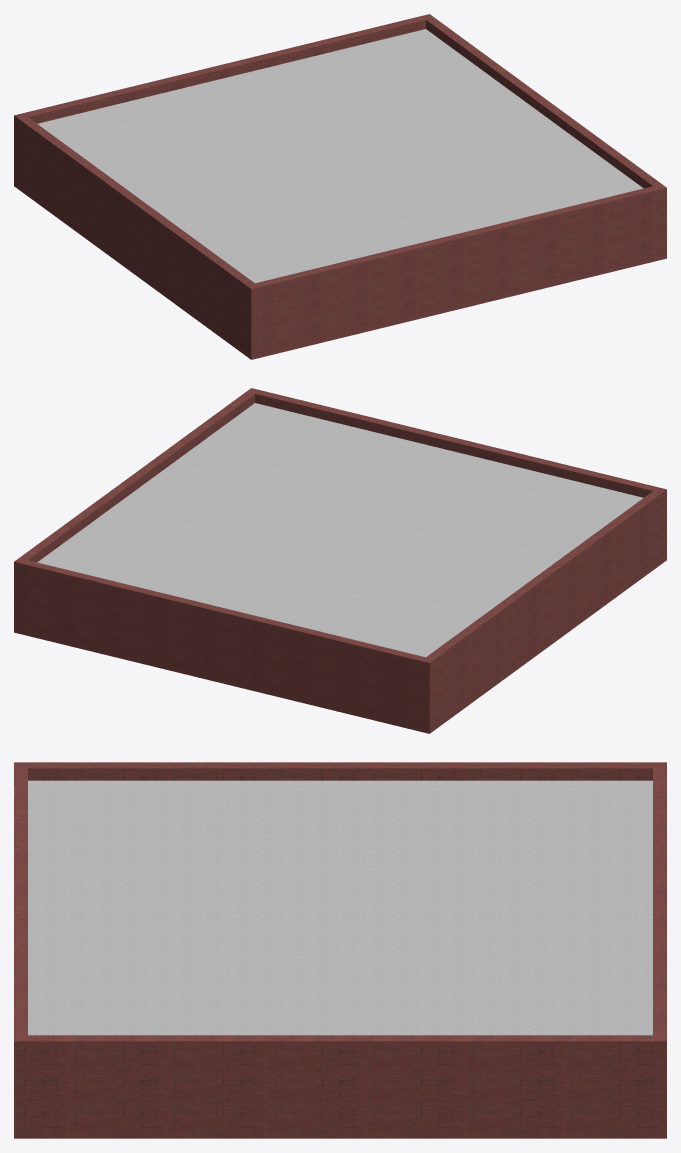
The model's file is Post_Ozone_Contact_Tank.glb.
The picture shows the model from 3 angles, top to bottom: view 1: azimuth 30°, elevation 25°; view 2: azimuth 150°, elevation 25°; view 3: azimuth 270°, elevation 25°; orthographic projection. The views are drawn at different scales.
Visible parts, largest first — view 1: Floor1; view 2: Floor1; view 3: Floor1.
Part boxes in pixels (bbox=[...]): Floor1: bbox=[14, 14, 666, 359]; Floor1: bbox=[14, 388, 666, 733]; Floor1: bbox=[14, 762, 666, 1138].
Bounding box in the file's own units: 38.07 × 6.2 × 37.66.
2 materials, 2 textured.
